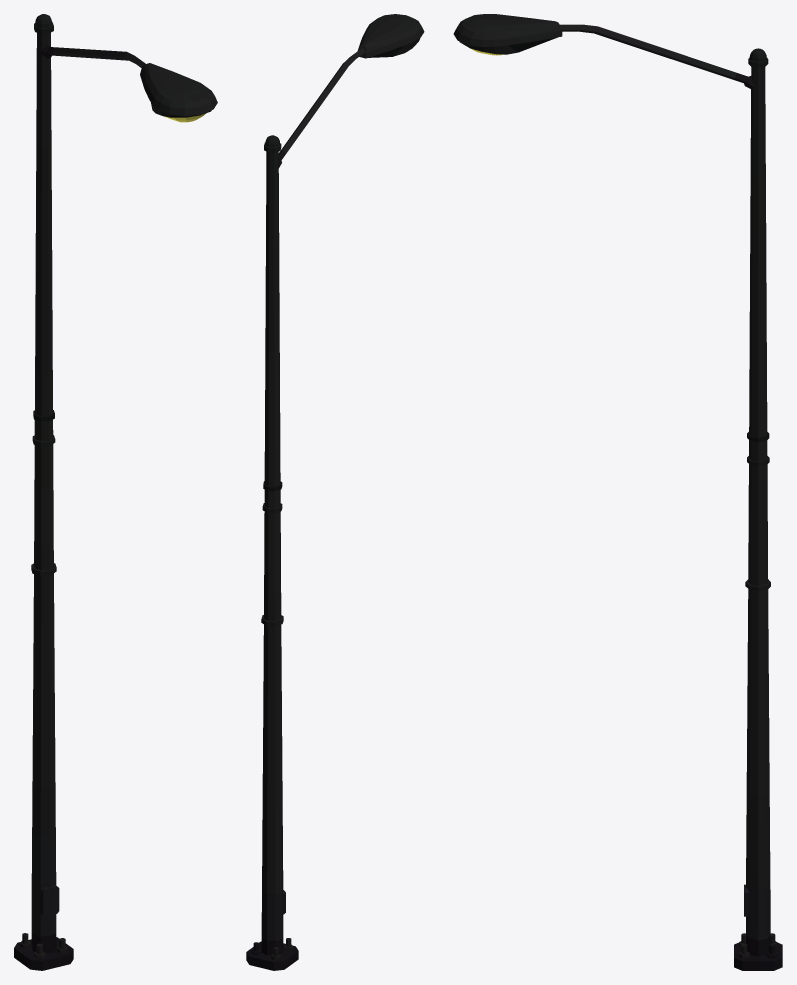
Rendered from LightPole03.fbx.
The picture shows the model from 3 angles, left to right: view 1: azimuth 30°, elevation 25°; view 2: azimuth 150°, elevation 25°; view 3: azimuth 270°, elevation 25°; orthographic projection. The views are drawn at different scales.
Parts seen in each view (by area): view 1: SM_City_LightPole_01d.mo; view 2: SM_City_LightPole_01d.mo; view 3: SM_City_LightPole_01d.mo.
Part boxes in pixels (bbox=[...]): SM_City_LightPole_01d.mo: bbox=[14, 14, 217, 970]; SM_City_LightPole_01d.mo: bbox=[246, 14, 424, 970]; SM_City_LightPole_01d.mo: bbox=[453, 14, 782, 970].
Size of the model in its own units: 50.35 by 849 by 270.
